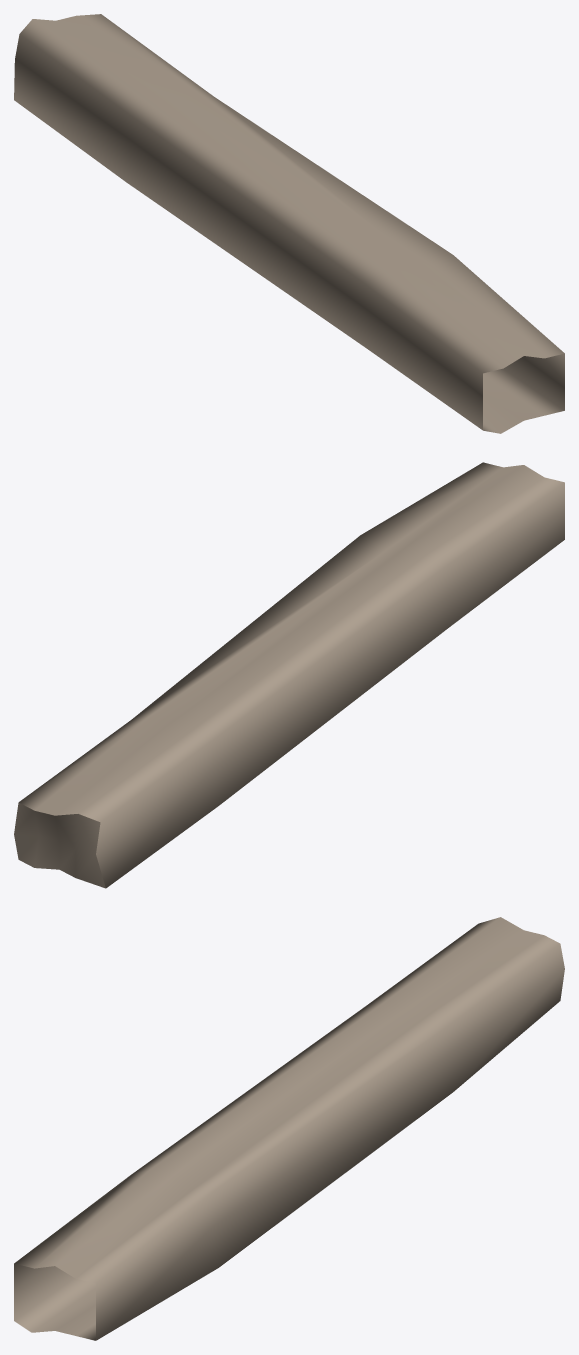
Rendered from Tabla.fbx.
3 views of the same model, one above another, from view 1: azimuth 30°, elevation 25°; view 2: azimuth 150°, elevation 25°; view 3: azimuth 330°, elevation 25° (orthographic).
Parts seen in each view (by area): view 1: polySurface52; view 2: polySurface52; view 3: polySurface52.
Part boxes in pixels (<box>): polySurface52: <box>14,14,564,433</box>; polySurface52: <box>14,462,564,888</box>; polySurface52: <box>14,917,564,1340</box>.
Bounding box in the file's own units: 2.03 × 1.68 × 17.78.
